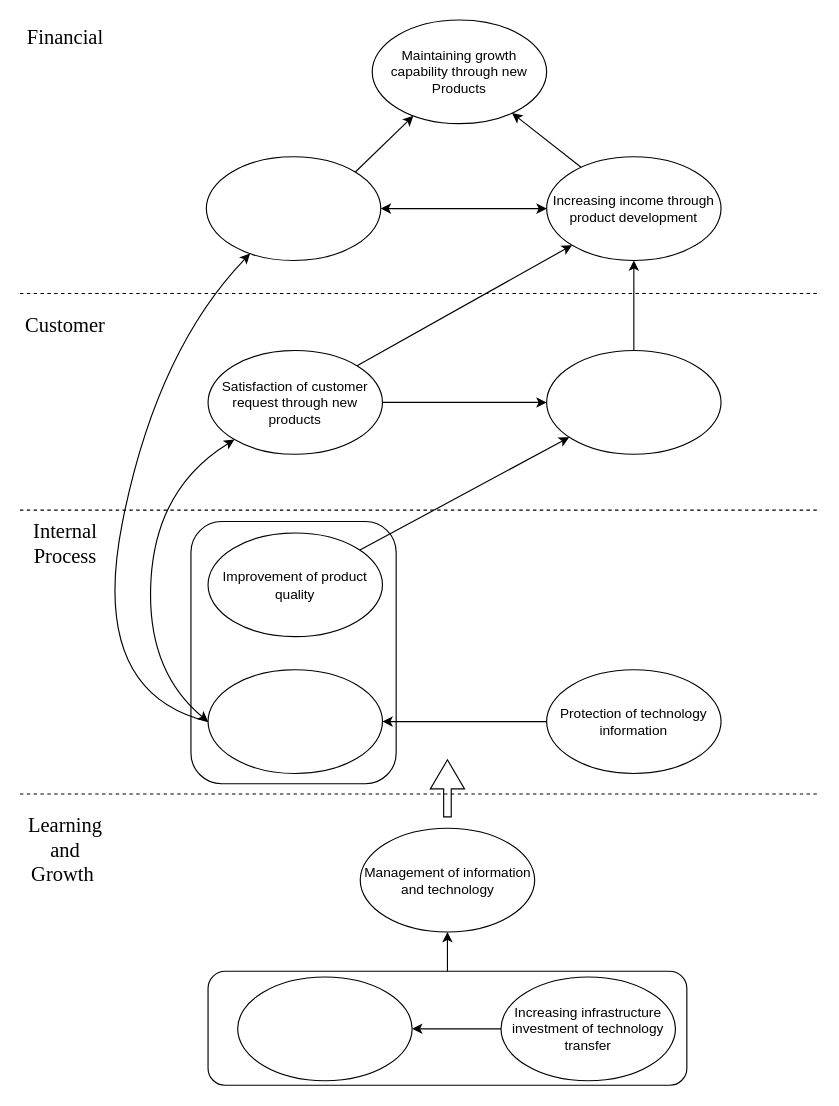
Image size: 839x1106. Some labels were removed from this diagram. Here are the shapes that lost their labels. From the top down, the centre of each, then its label:
point 293,208: Maximizing business value e through technology transfer
point 633,401: Increase customer satisfaction after sales of product
point 294,721: Development of new product through technology transfer
point 324,1028: Strengthening of manpower for technology transfer
